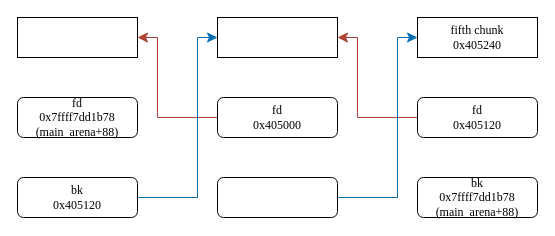
The diagram is 555 pixels wide and 236 high, and some of its shapes have lost their labels. The shapes that lost their labels are listed below. From the top down, each one's centre as x and y in pixels, then its label:
At pixel 77 37: "first chunk 0x405000".
At pixel 277 37: "third chunk 0x405120".
At pixel 277 197: "bk 0x405240".
